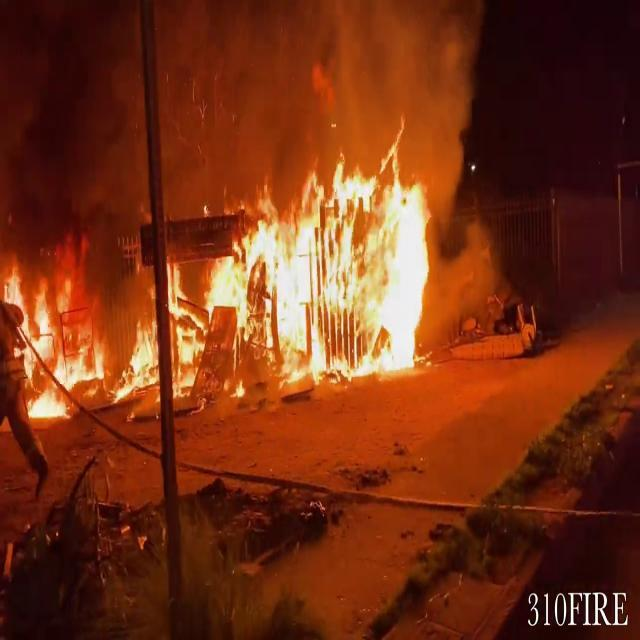Fire: (0, 126, 455, 398)
Smoke: (2, 1, 496, 174)
